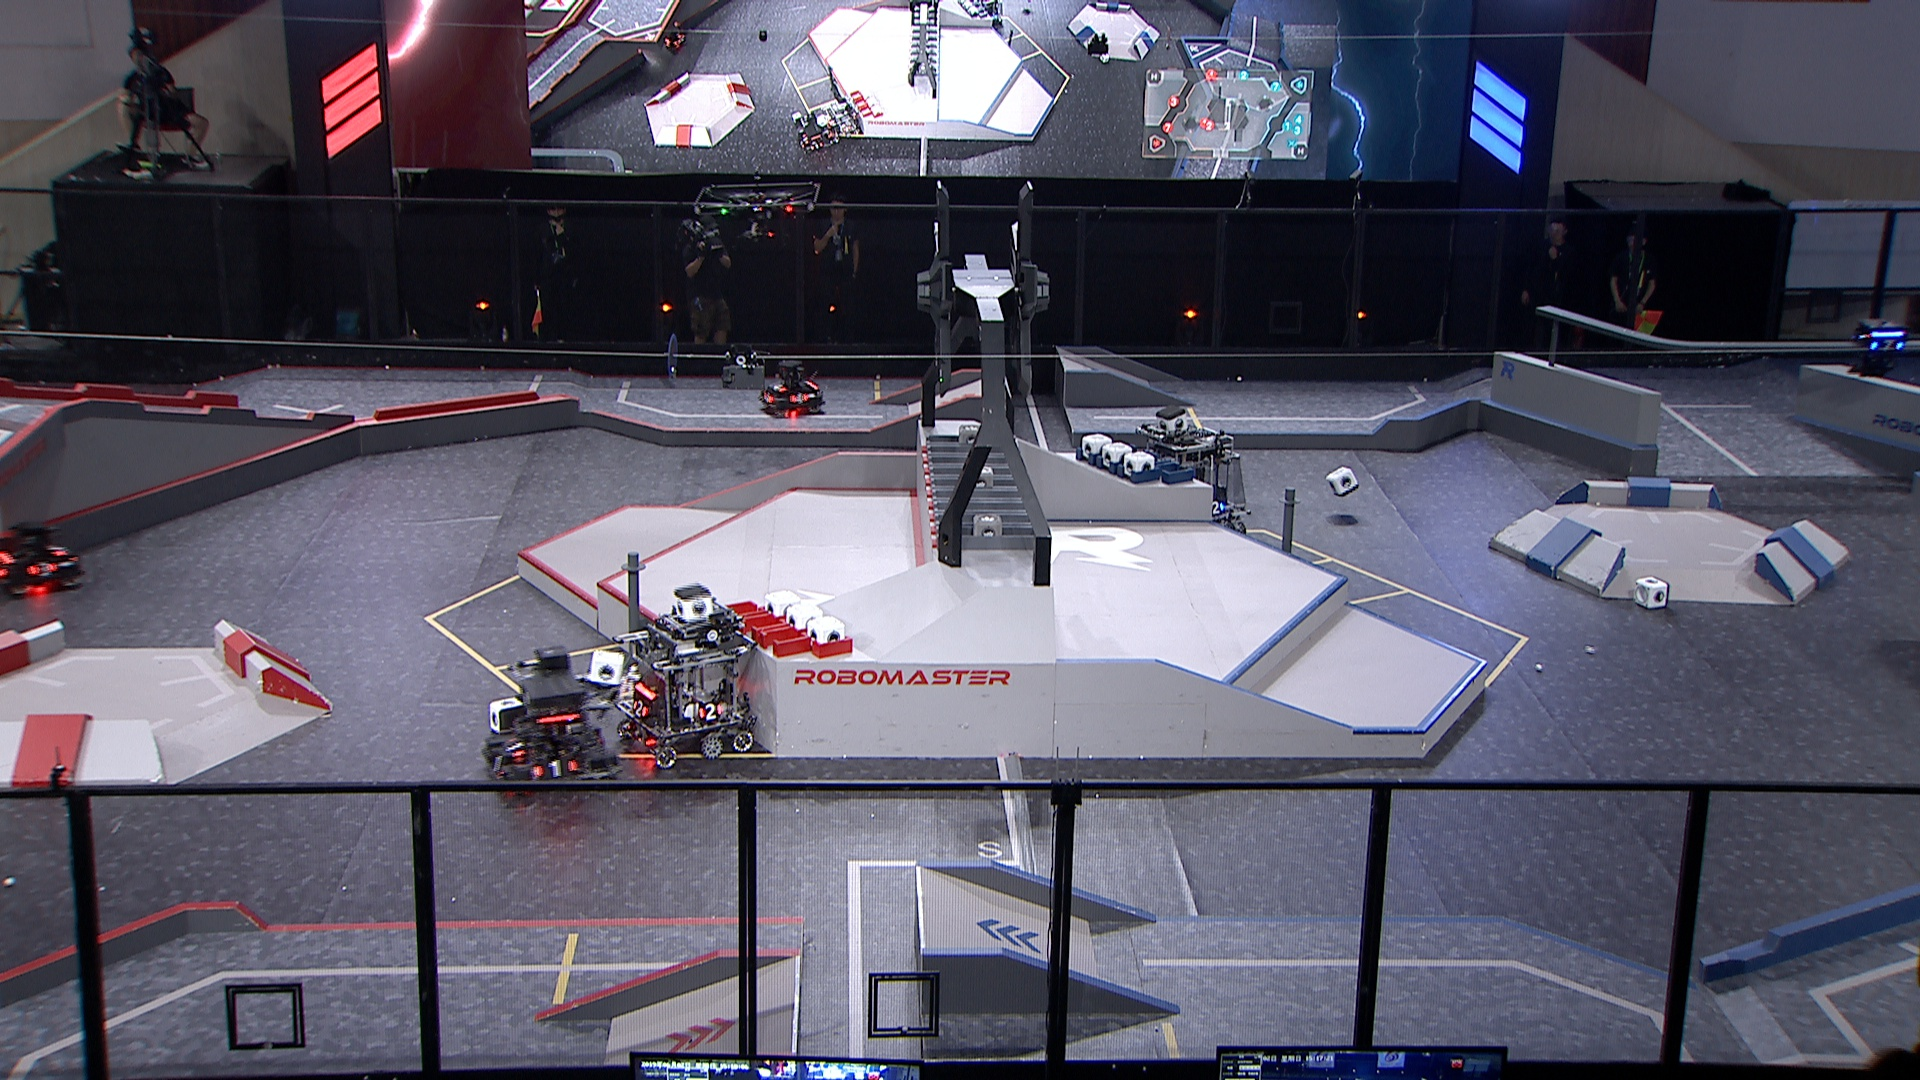armor: (531, 760, 579, 783), (487, 752, 510, 785), (698, 702, 727, 725), (26, 560, 59, 580), (1871, 339, 1904, 353), (632, 698, 650, 719), (789, 392, 812, 406), (47, 543, 69, 556), (1211, 500, 1228, 516), (761, 389, 775, 406), (770, 382, 787, 394)
car: (609, 597, 760, 770), (481, 647, 618, 796), (1135, 423, 1253, 541), (757, 357, 827, 417)
ignore: (794, 109, 840, 154), (829, 104, 858, 142), (972, 0, 1005, 30), (661, 22, 686, 54)
watcher: (1847, 318, 1907, 377)
